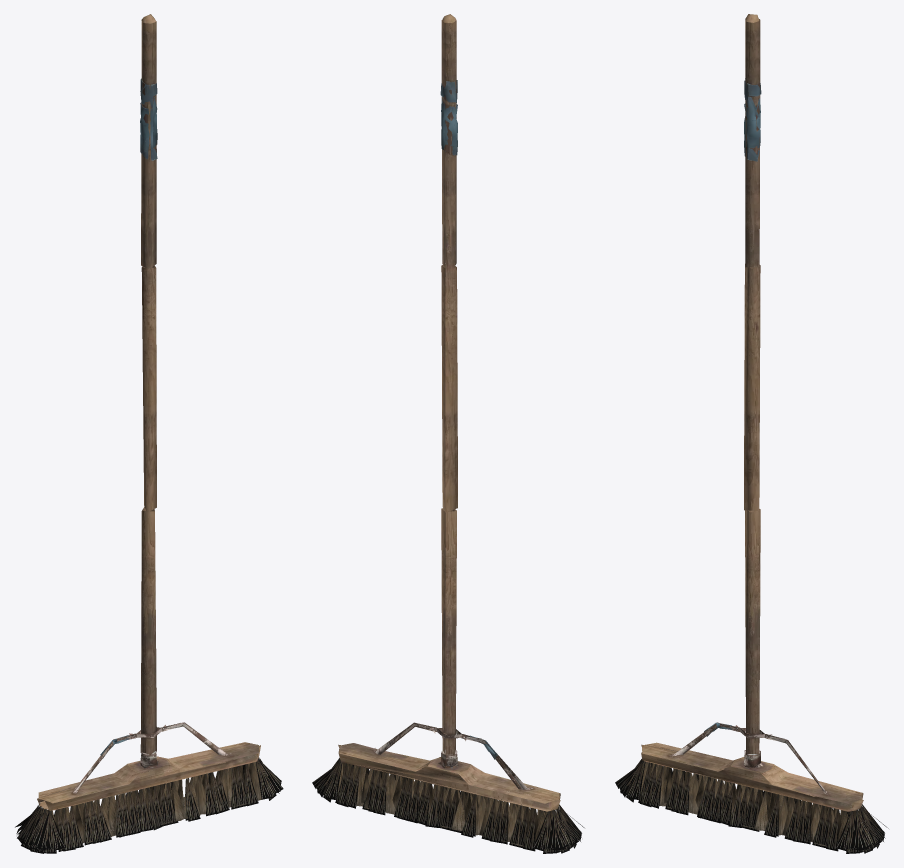
The model's file is wooden_broom.glb.
3 renders of one model, left to right at view 1: azimuth 30°, elevation 25°; view 2: azimuth 150°, elevation 25°; view 3: azimuth 330°, elevation 25°, orthographic.
Visible parts, largest first — view 1: wooden_broom_handle, wooden_broom, wooden_broom_bristles; view 2: wooden_broom_handle, wooden_broom, wooden_broom_bristles; view 3: wooden_broom_handle, wooden_broom, wooden_broom_bristles.
Part boxes in pixels (x1,y1,x2,y2): wooden_broom_handle: [140, 14, 157, 772]; wooden_broom: [36, 722, 272, 849]; wooden_broom_bristles: [15, 757, 283, 853]; wooden_broom_handle: [440, 14, 457, 768]; wooden_broom: [337, 722, 560, 851]; wooden_broom_bristles: [312, 758, 584, 853]; wooden_broom_handle: [744, 14, 761, 768]; wooden_broom: [640, 722, 873, 851]; wooden_broom_bristles: [615, 759, 888, 853].
Size of the model in its own units: 0.4875 by 1.45 by 0.1008.
Materials: 2 (2 with a texture image).
